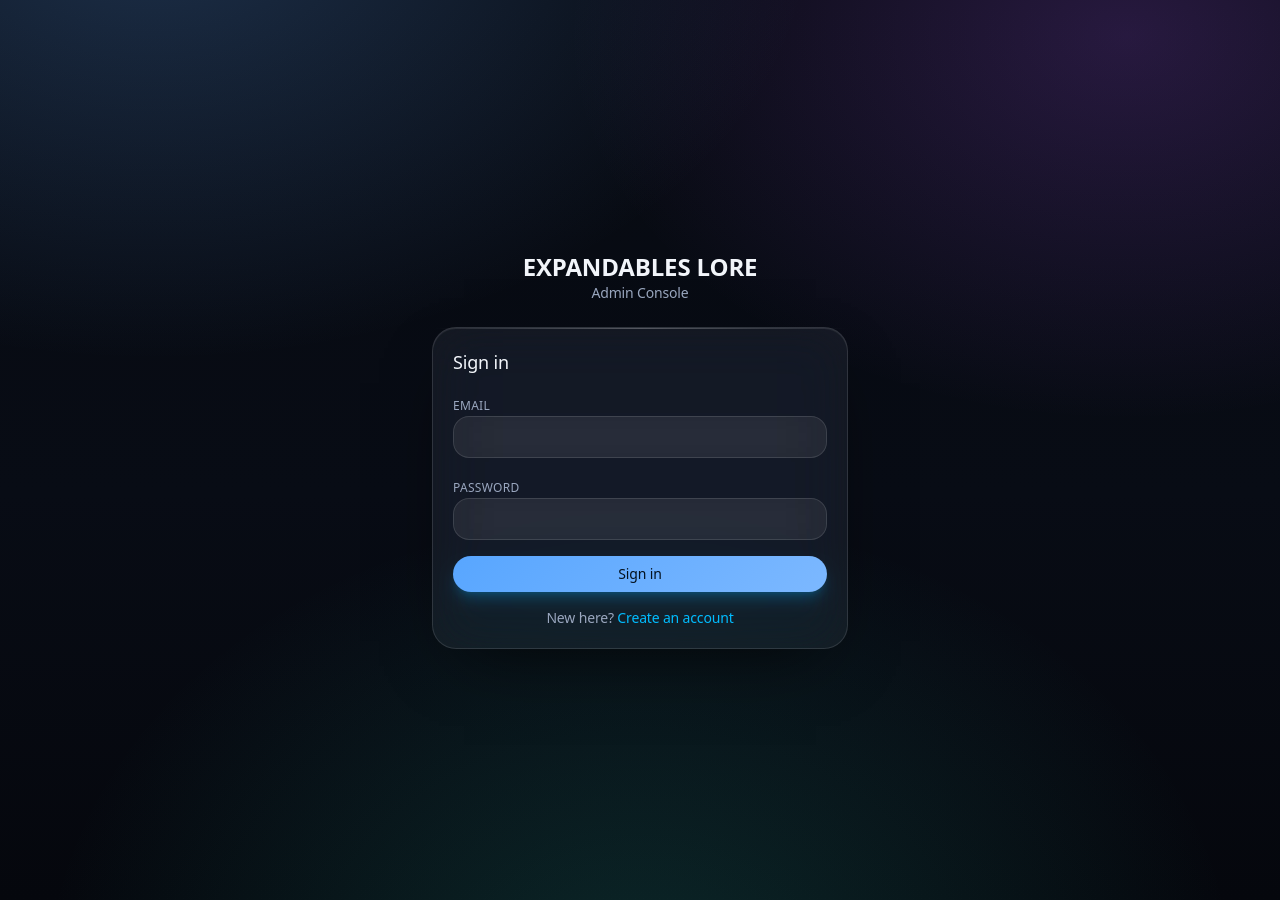
Test case: Login › surfaces the server error message on a rejected login
Type "a@b.c" into the field labelled "Email" at (640, 437), box [453,416,827,458]
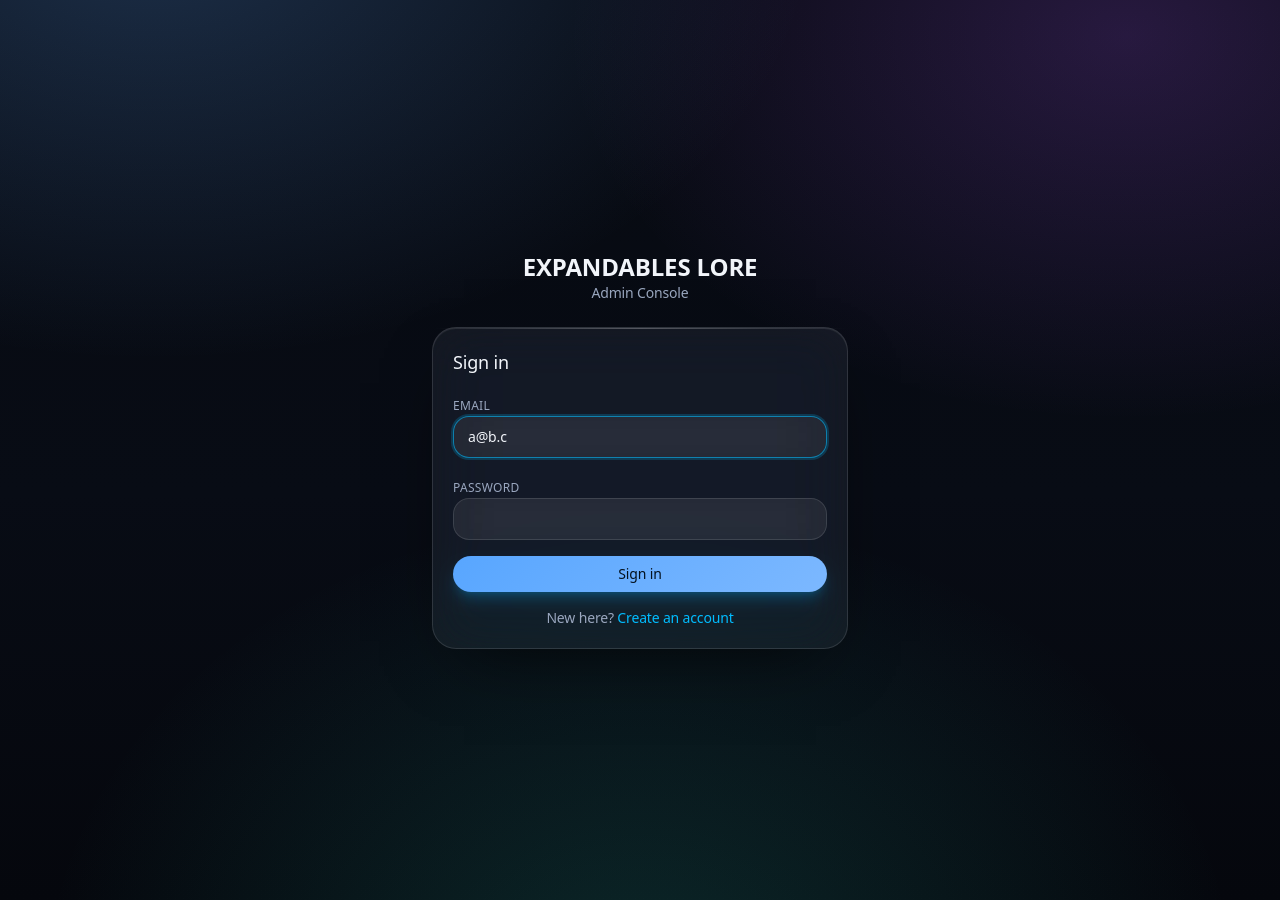
Type "x" into the password field labelled "Password" at (640, 519), box [453,498,827,540]
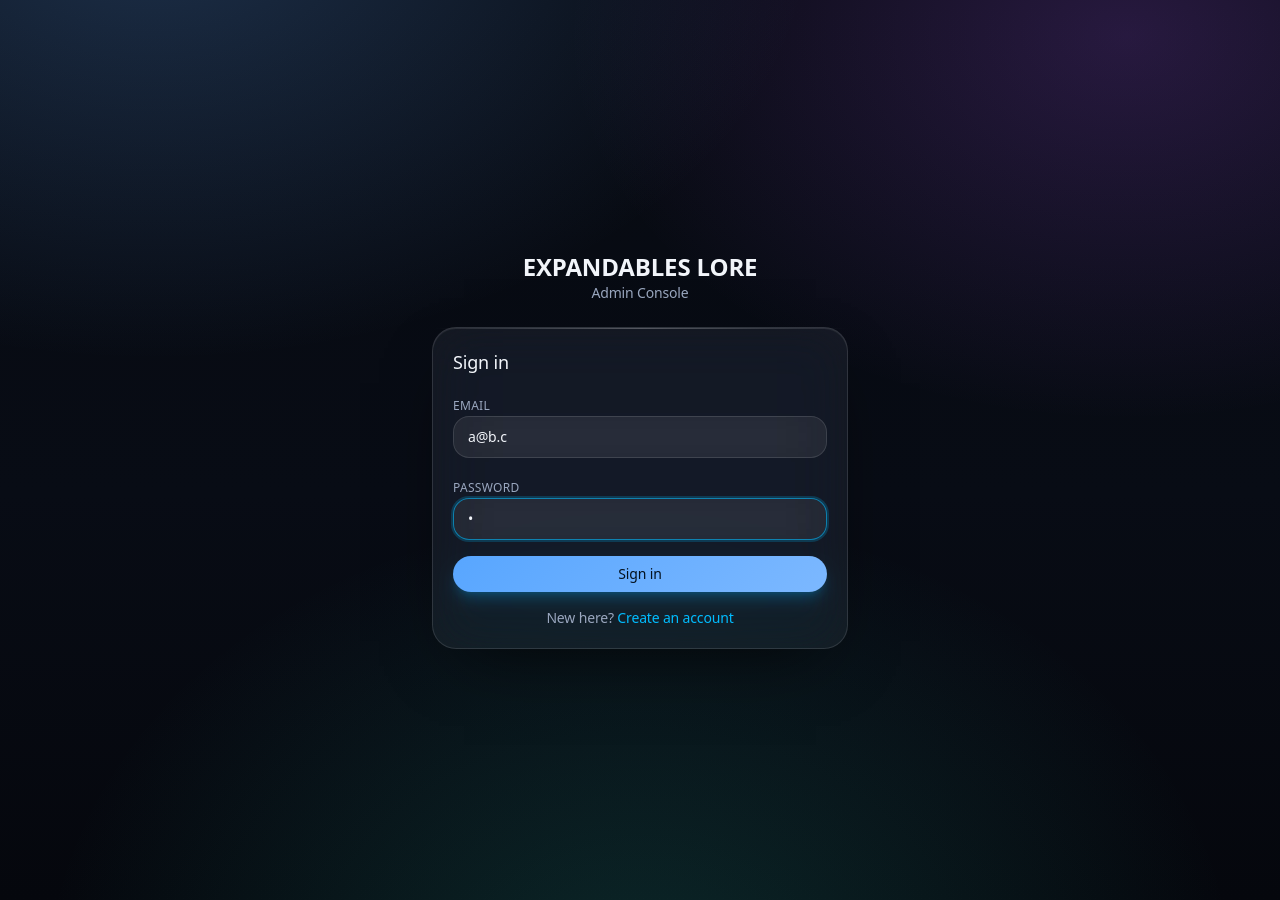
Click the button "Sign in" at (640, 574), box [453,556,827,592]
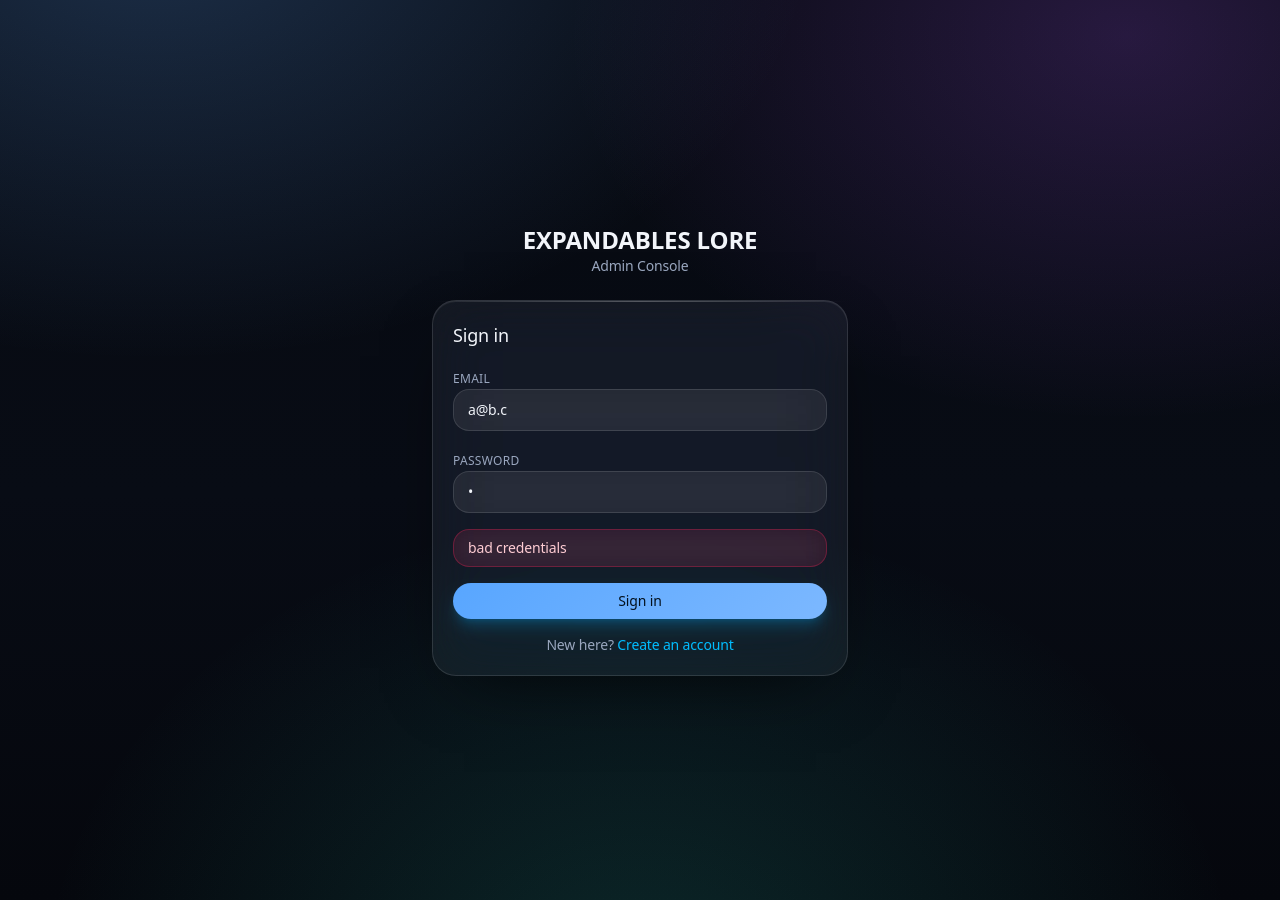
Expected: the message reads "bad credentials", [468,538,566,557]
